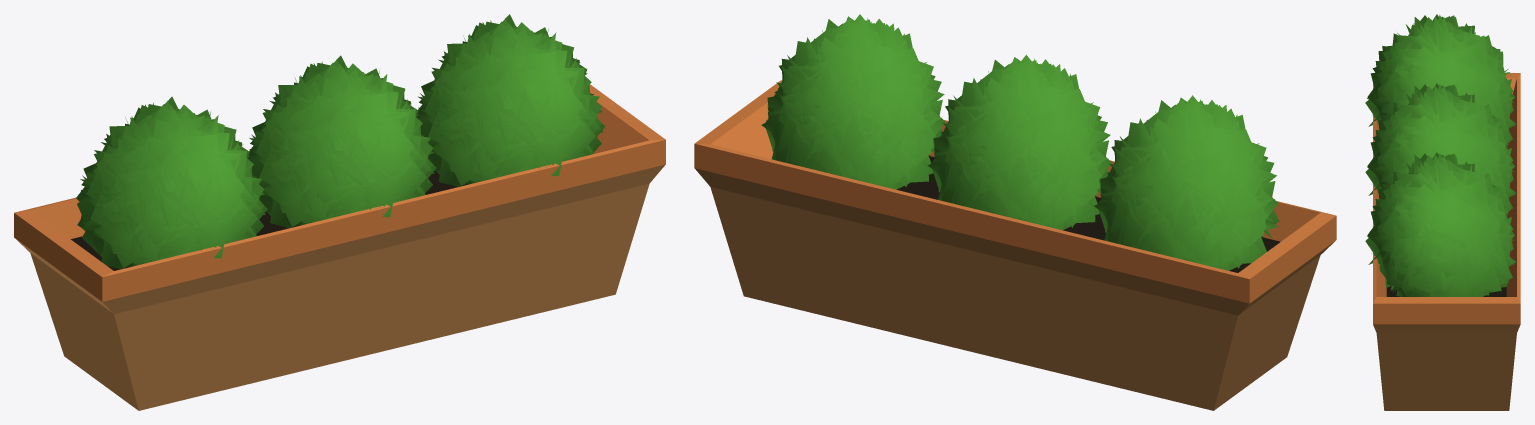
The model's file is bush.fbx.
3 views of the same model, side by side, from view 1: azimuth 30°, elevation 25°; view 2: azimuth 150°, elevation 25°; view 3: azimuth 270°, elevation 25° (orthographic). The views are drawn at different scales.
Visible parts, largest first — view 1: Pot, Leaf.003; view 2: Pot, Leaf.003; view 3: Leaf.003, Pot.
Part boxes in pixels (<box>): Pot: <box>14,84,665,410</box>; Leaf.003: <box>76,14,605,269</box>; Pot: <box>694,80,1336,410</box>; Leaf.003: <box>761,14,1279,270</box>; Leaf.003: <box>1365,14,1515,296</box>; Pot: <box>1373,73,1520,410</box>.
Bounding box in the file's own units: 281 × 128 × 80.12.
